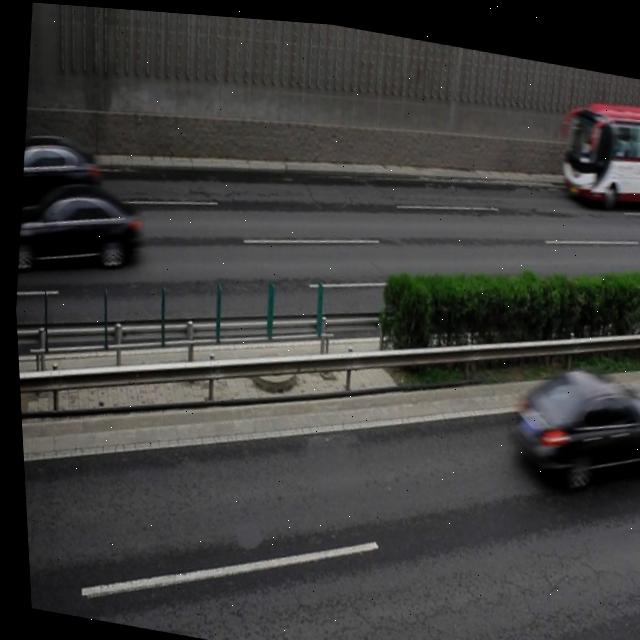car: (499, 347, 640, 484), (12, 173, 143, 280), (15, 127, 106, 219)
van: (552, 81, 640, 206)
